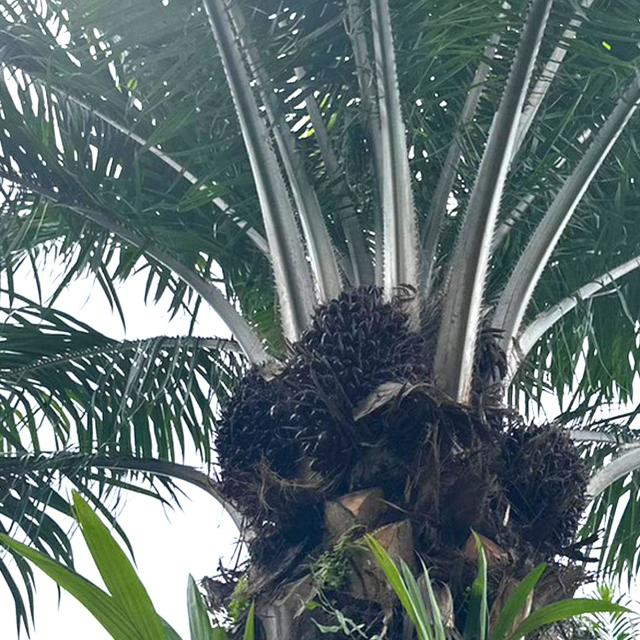ripe: (264, 271, 444, 469), (204, 363, 310, 525), (492, 402, 597, 560)
